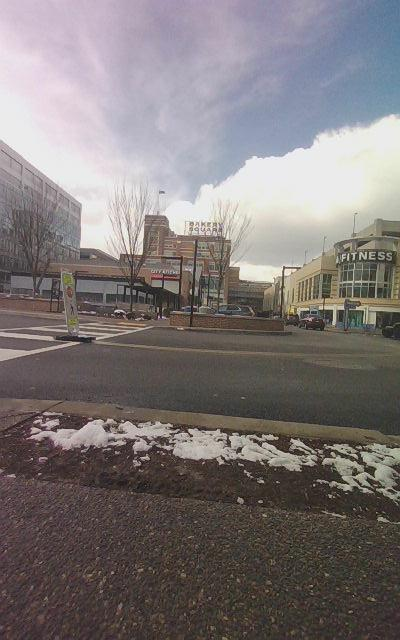curb: (0, 399, 399, 639)
road: (0, 312, 399, 433)
